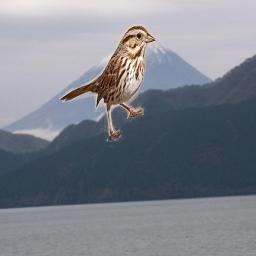Sparrow: (59, 24, 157, 142)
